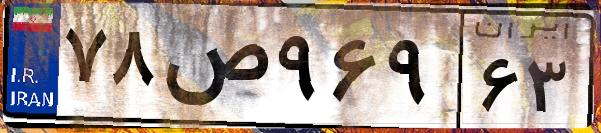3: (525, 38, 570, 115)
6: (330, 28, 385, 110), (475, 38, 525, 113)
7: (57, 26, 110, 100)
8: (110, 28, 158, 98)
9: (270, 28, 330, 110), (385, 28, 445, 110)
ص: (158, 20, 270, 120)
